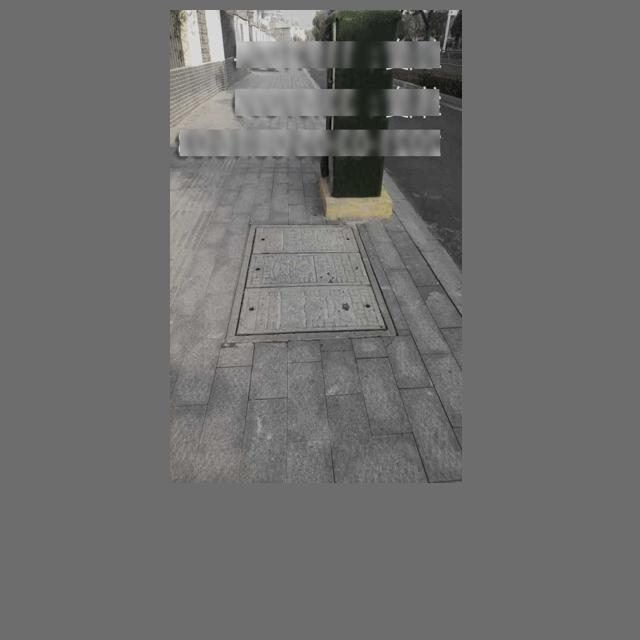good: (225, 219, 397, 342)
